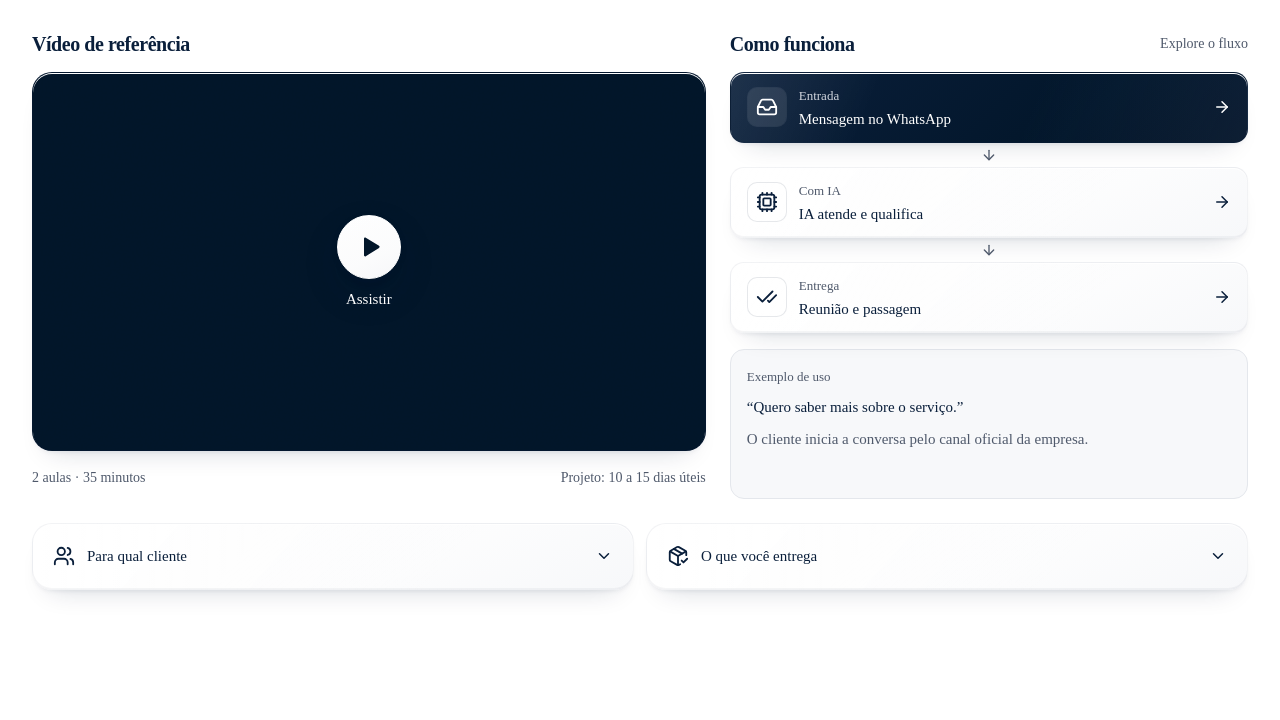
Visão visual dos projetos › mantém cliente ideal e entrega acessíveis sob consulta
Check: the text "Empresas que recebem oportunidades pelo WhatsApp e ainda atendem manualmente." is not shown
Click the heading "Para qual cliente" at (137,556), box [53, 545, 613, 567]
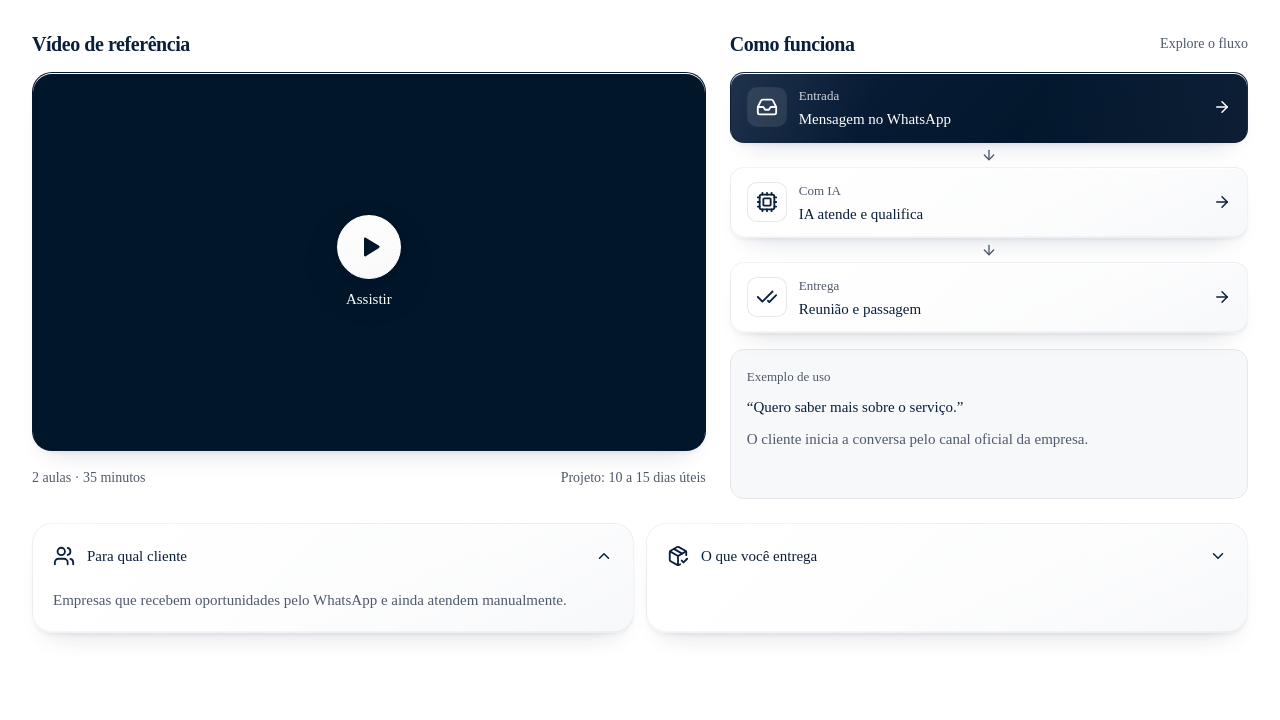
Check: the text "Empresas que recebem oportunidades pelo WhatsApp e ainda atendem manualmente." is shown, box [53, 592, 567, 608]
Click the heading "O que você entrega" at (759,556), box [667, 545, 1227, 567]
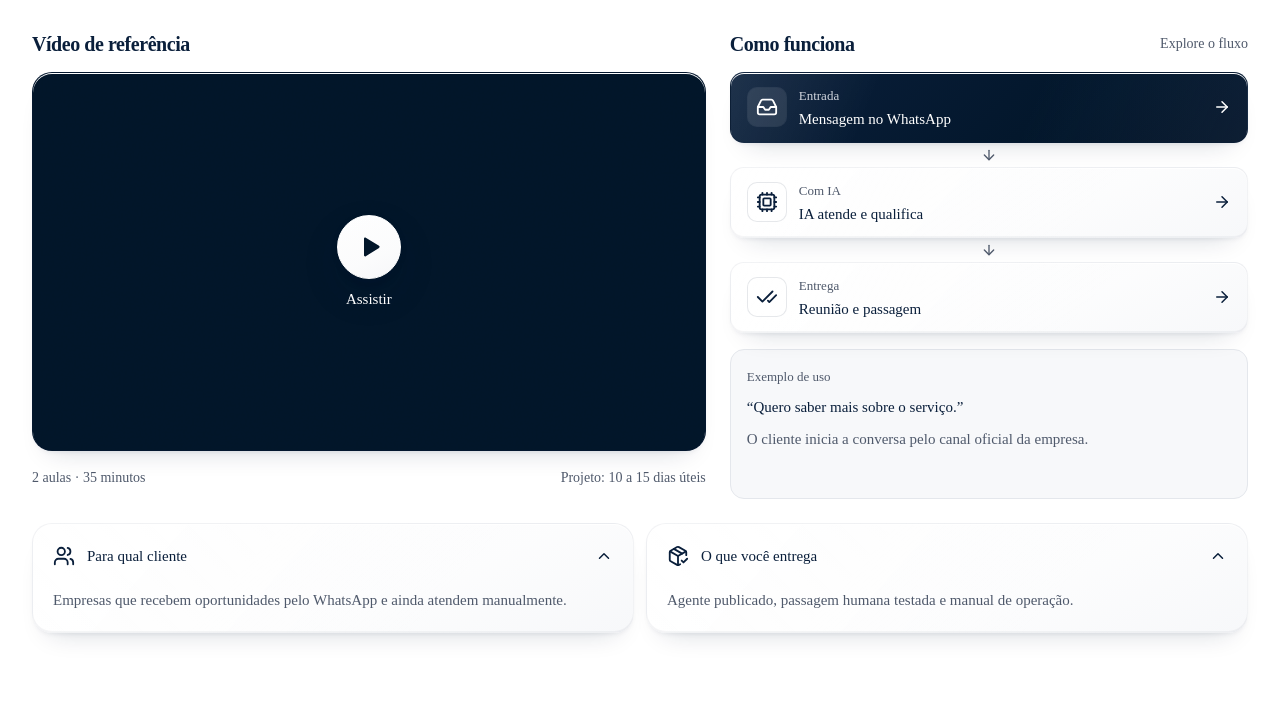
Check: the text "Agente publicado, passagem humana testada e manual de operação." is shown, box [667, 592, 1074, 608]
